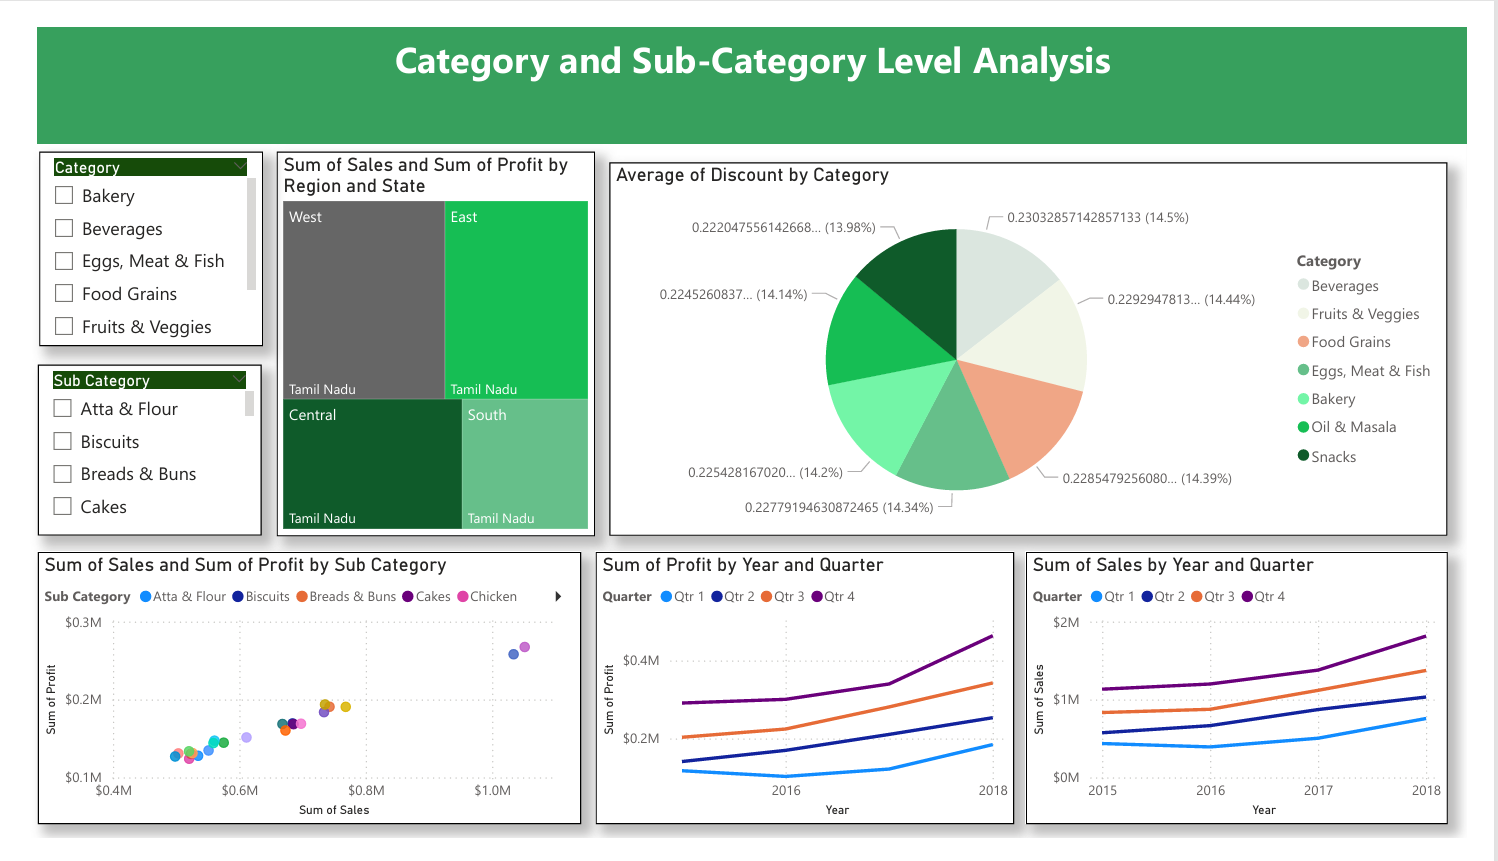

What the dashboard file says about the page in this screenshot:
{"tool":"powerbi","page":{"name":"Category and Sub Category","canvas":[1280,720],"ordinal":2},"visuals":[{"type":"textbox","box":[9.6,0,1270.7,104.3],"z":0},{"type":"slicer","fields":{"Values":["Supermart Grocery Sales - Retai.Sub Category"]},"box":[9.6,299.1,199,152.3],"z":1000},{"type":"treemap","fields":{"Group":["Supermart Grocery Sales - Retai.Region"],"Details":["Supermart Grocery Sales - Retai.State"],"Values":["Sum(Supermart Grocery Sales - Retai.Sales)"]},"box":[222.3,109.8,282.7,341.7],"z":2000},{"type":"pieChart","fields":{"Category":["Supermart Grocery Sales - Retai.Category"],"Y":["Avg(Supermart Grocery Sales - Retai.Discount)"]},"box":[517.3,119.4,745.1,332.1],"z":3000},{"type":"scatterChart","fields":{"Series":["Supermart Grocery Sales - Retai.Sub Category"],"X":["Sum(Supermart Grocery Sales - Retai.Sales)"],"Y":["Sum(Supermart Grocery Sales - Retai.Profit)"]},"box":[9.6,465.2,483,241.5],"z":4000},{"type":"lineChart","fields":{"Category":["Supermart Grocery Sales - Retai.Year"],"Y":["Sum(Supermart Grocery Sales - Retai.Profit)"],"Series":["Supermart Grocery Sales - Retai.Quarter"]},"box":[505,465.2,371.9,241.5],"z":5000},{"type":"lineChart","fields":{"Category":["Supermart Grocery Sales - Retai.Year"],"Series":["Supermart Grocery Sales - Retai.Quarter"],"Y":["Sum(Supermart Grocery Sales - Retai.Sales)"]},"box":[887.8,465.2,374.6,241.5],"z":6000},{"type":"slicer","fields":{"Values":["Supermart Grocery Sales - Retai.Category"]},"box":[11,109.8,199,172.9],"z":7000}]}

Visuals, with their boxes in screenshot pixels (x1, y1, x2, y2), scaled from the page's 1280x720 canvas onto the 1498x861 screenshot:
textbox: <box>11,0,1497,125</box>
slicer - Supermart Grocery Sales - Retai.Sub Category: <box>11,358,244,540</box>
treemap - Supermart Grocery Sales - Retai.Region x Supermart Grocery Sales - Retai.State: <box>260,131,591,540</box>
pieChart - Supermart Grocery Sales - Retai.Category x Avg(Supermart Grocery Sales - Retai.Discount): <box>605,143,1477,540</box>
scatterChart - Supermart Grocery Sales - Retai.Sub Category x Sum(Supermart Grocery Sales - Retai.Sales): <box>11,556,576,845</box>
lineChart - Supermart Grocery Sales - Retai.Year x Sum(Supermart Grocery Sales - Retai.Profit): <box>591,556,1026,845</box>
lineChart - Supermart Grocery Sales - Retai.Year x Supermart Grocery Sales - Retai.Quarter: <box>1039,556,1477,845</box>
slicer - Supermart Grocery Sales - Retai.Category: <box>13,131,246,338</box>
